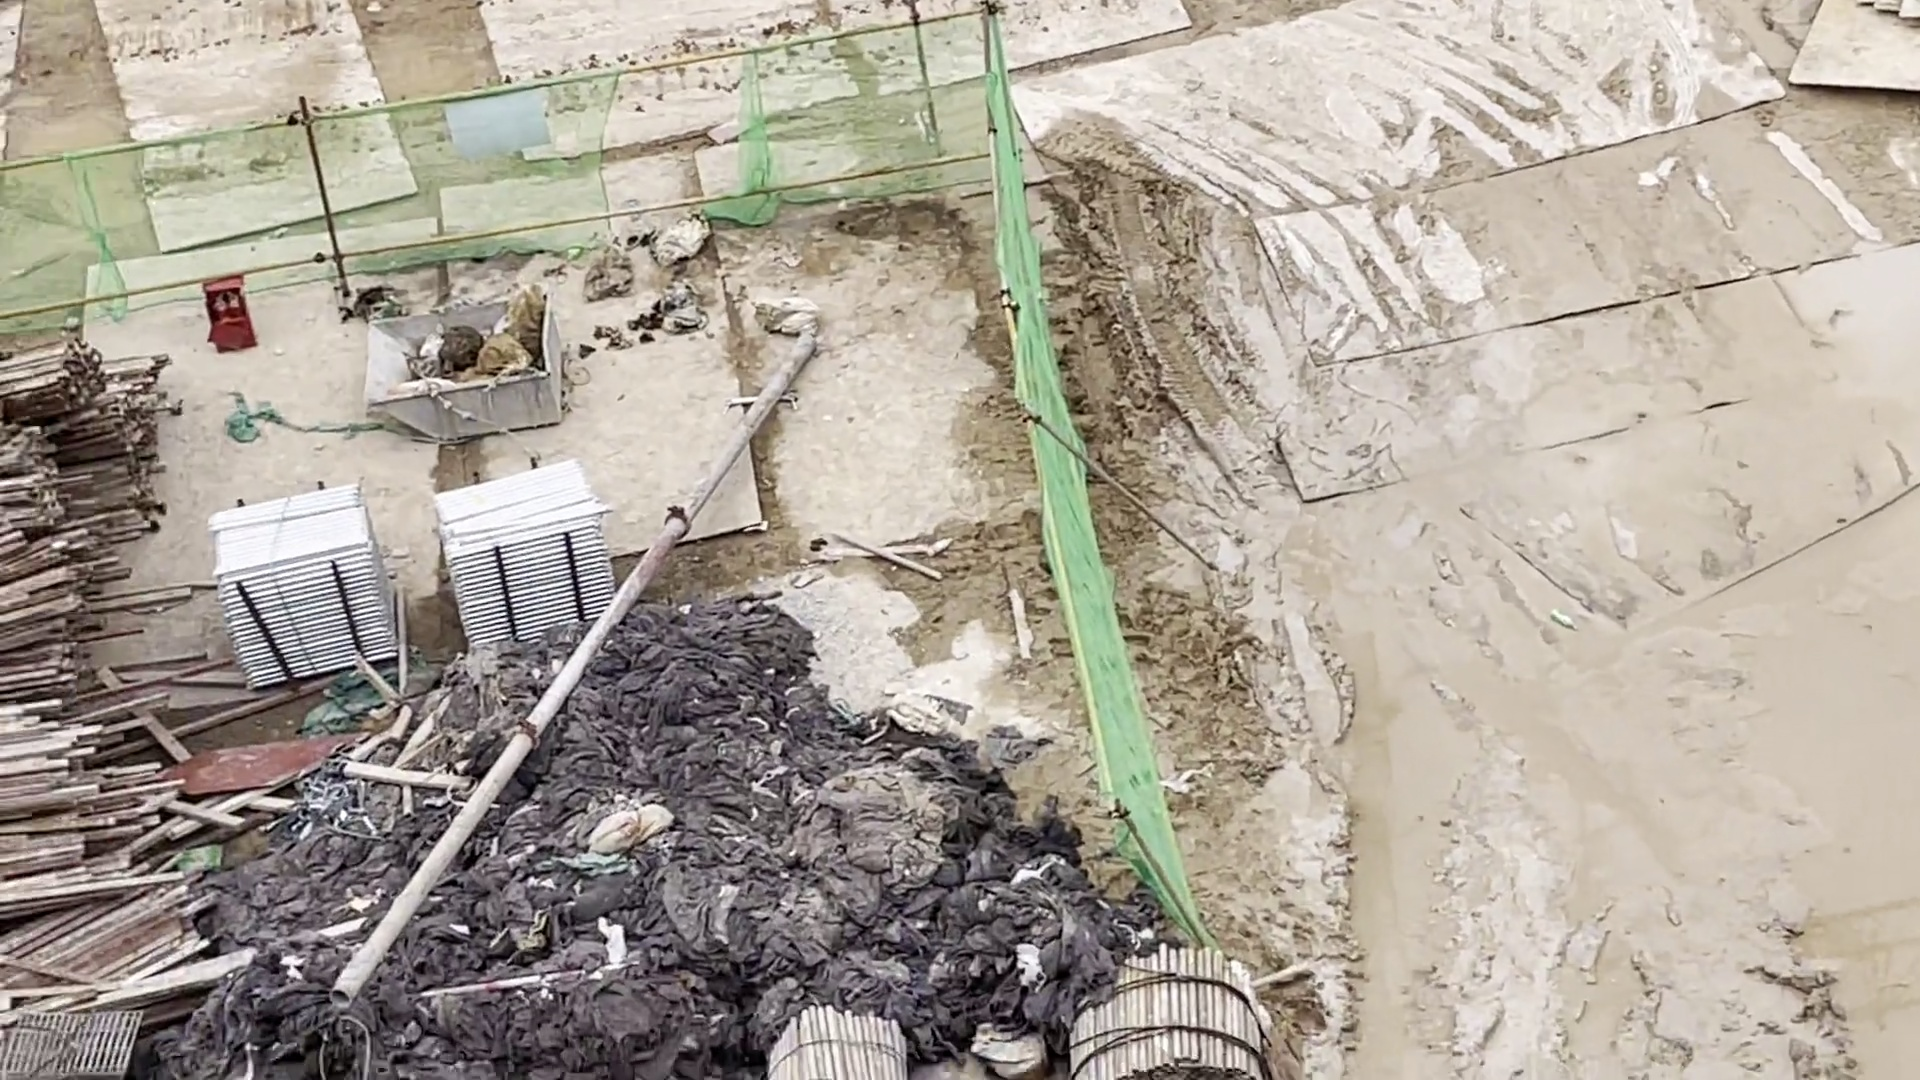hopper: (359, 297, 567, 435)
scaffold: (206, 480, 401, 691), (433, 456, 620, 649)
wood: (1, 323, 185, 982)
